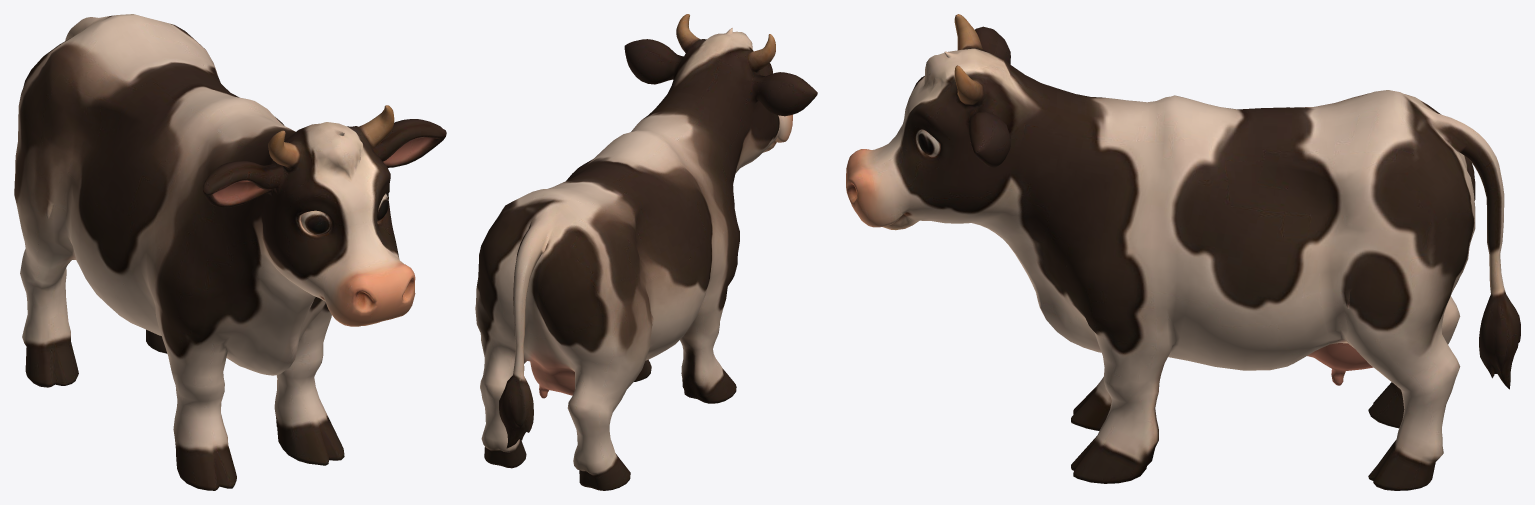
The model's file is cow.glb.
3 renders of one model, left to right at view 1: azimuth 30°, elevation 25°; view 2: azimuth 150°, elevation 25°; view 3: azimuth 270°, elevation 25°, orthographic. The views are drawn at different scales.
Parts seen in each view (by area): view 1: cow; view 2: cow; view 3: cow.
Boxes of the visible parts, <box> form: cow: <box>14,14,446,490</box>; cow: <box>475,14,817,490</box>; cow: <box>846,14,1520,490</box>.
Size of the model in its own units: 0.4214 by 0.6685 by 0.9995.
1 material, 1 textured.
